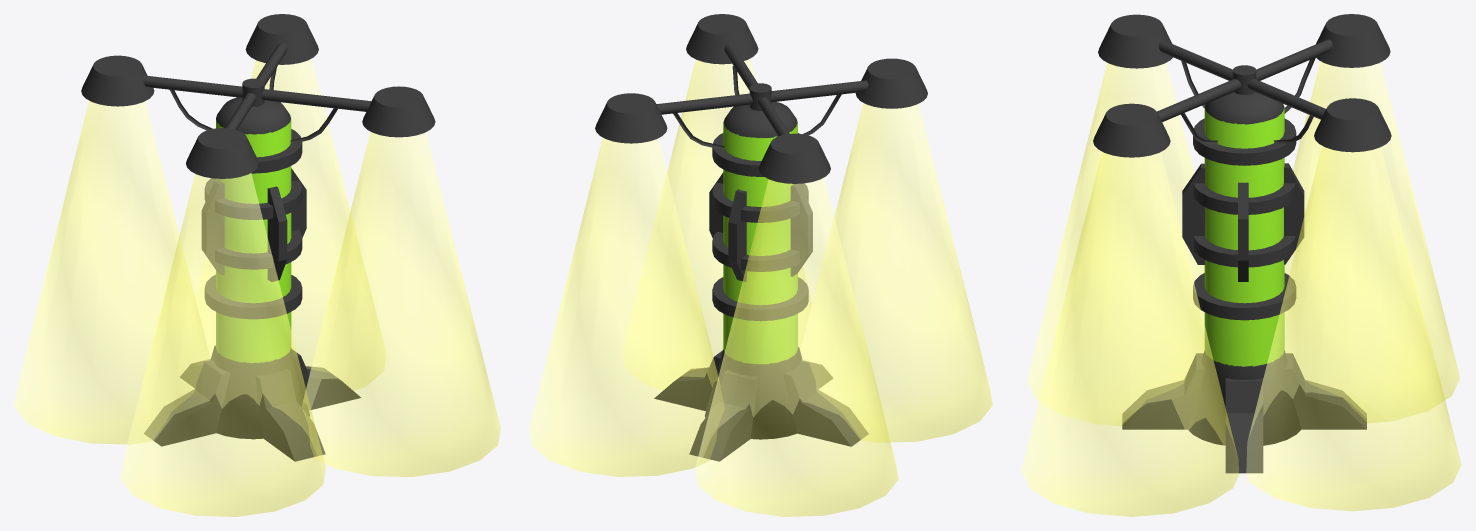
The model's file is LightTower.fbx.
3 renders of one model, left to right at view 1: azimuth 30°, elevation 25°; view 2: azimuth 150°, elevation 25°; view 3: azimuth 270°, elevation 25°, orthographic. The views are drawn at different scales.
Visible parts, largest first — view 1: Fake VolLight, Cylinder, Light, Supports.001, Rings, Supports, Fins, Cables; view 2: Fake VolLight, Cylinder, Light, Supports.001, Rings, Supports, Fins, Cables; view 3: Fake VolLight, Cylinder, Light, Supports.001, Rings, Supports, Fins, Cables.
Boxes of the visible parts, bbox=[...] form: Fake VolLight: bbox=[14, 58, 500, 516]; Cylinder: bbox=[212, 97, 309, 439]; Light: bbox=[81, 14, 435, 178]; Supports.001: bbox=[144, 345, 361, 461]; Rings: bbox=[204, 129, 302, 319]; Supports: bbox=[143, 43, 371, 129]; Fins: bbox=[201, 168, 306, 281]; Cables: bbox=[170, 67, 337, 144]; Fake VolLight: bbox=[529, 58, 992, 516]; Cylinder: bbox=[705, 101, 800, 439]; Light: bbox=[595, 14, 927, 183]; Supports.001: bbox=[654, 347, 868, 461]; Rings: bbox=[712, 133, 808, 321]; Supports: bbox=[656, 43, 868, 136]; Fins: bbox=[709, 172, 812, 281]; Cables: bbox=[673, 66, 841, 149]; Fake VolLight: bbox=[1021, 61, 1461, 516]; Cylinder: bbox=[1188, 92, 1301, 445]; Light: bbox=[1093, 14, 1391, 157]; Supports.001: bbox=[1122, 353, 1366, 473]; Rings: bbox=[1193, 118, 1296, 320]; Supports: bbox=[1157, 39, 1332, 122]; Fins: bbox=[1182, 163, 1304, 281]; Cables: bbox=[1181, 56, 1315, 144].
Bounding box in the file's own units: 10.95 × 11.02 × 9.85.
